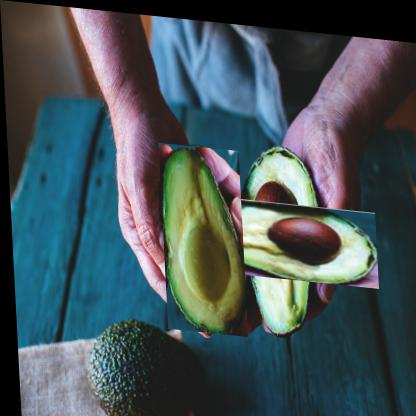avocado: (209, 163, 349, 308), (157, 139, 246, 333)
